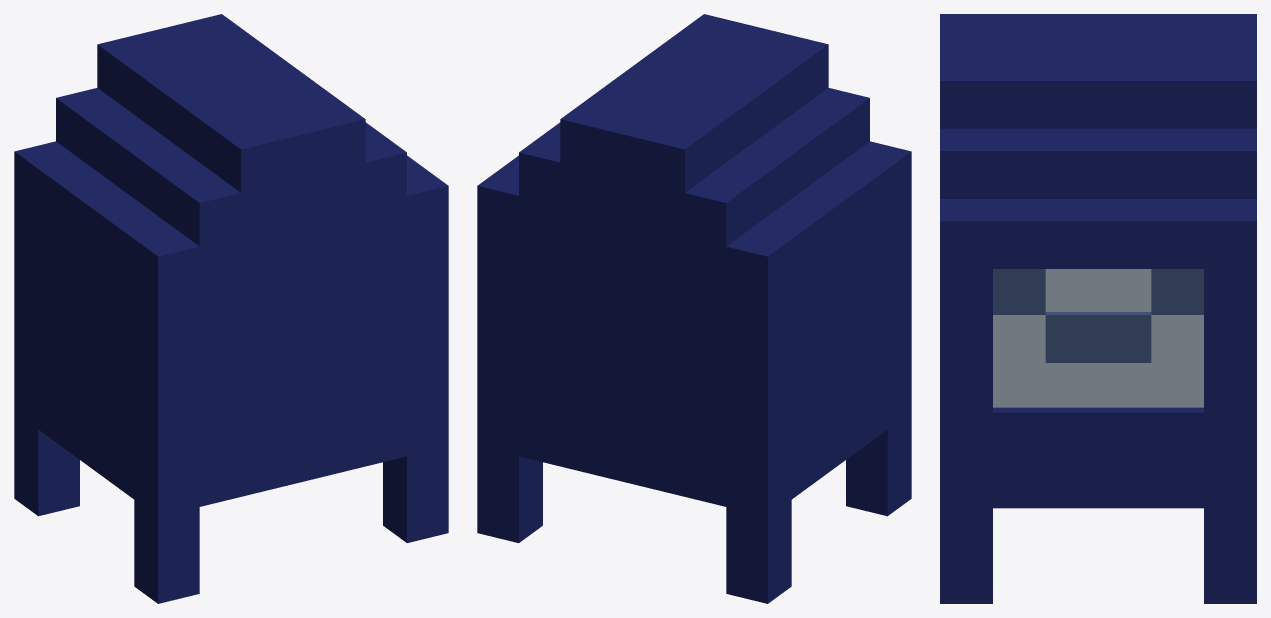
The model's file is PostBox_Mesh_001.fbx.
3 renders of one model, left to right at view 1: azimuth 30°, elevation 25°; view 2: azimuth 150°, elevation 25°; view 3: azimuth 270°, elevation 25°, orthographic. The views are drawn at different scales.
Visible parts, largest first — view 1: PostBox_001; view 2: PostBox_001; view 3: PostBox_001.
Boxes of the visible parts, x1,y1,x2,y2 form: PostBox_001: (14,14,448,603); PostBox_001: (477,14,911,603); PostBox_001: (940,14,1256,603).
Size of the model in its own units: 0.7 by 1 by 0.6.
